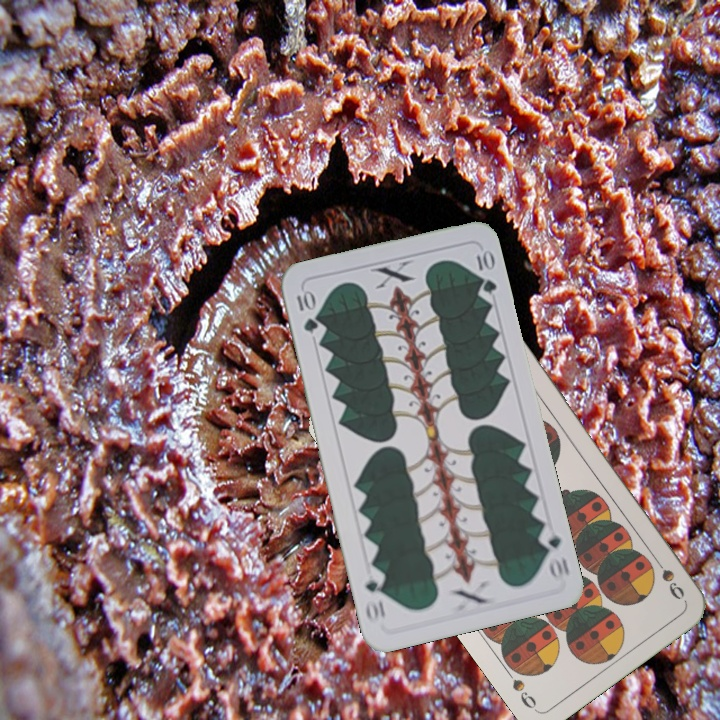G10: (535, 524, 572, 582), (292, 286, 320, 335)
S9: (648, 550, 688, 603)
